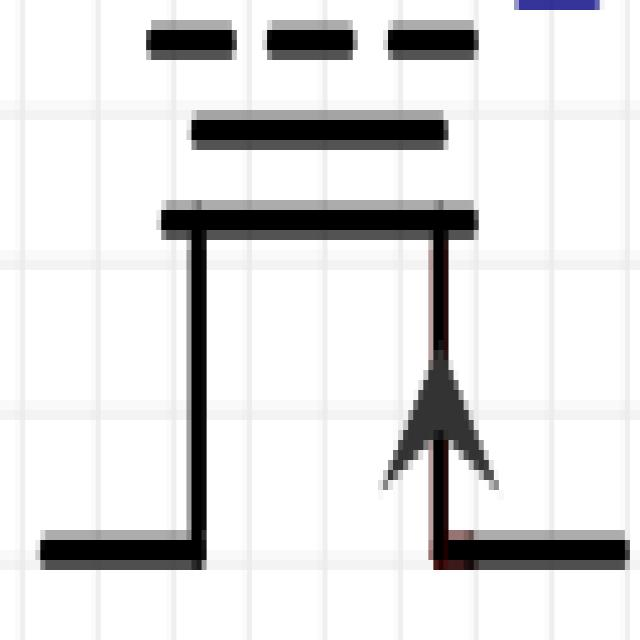pmos: (42, 14, 618, 596)
